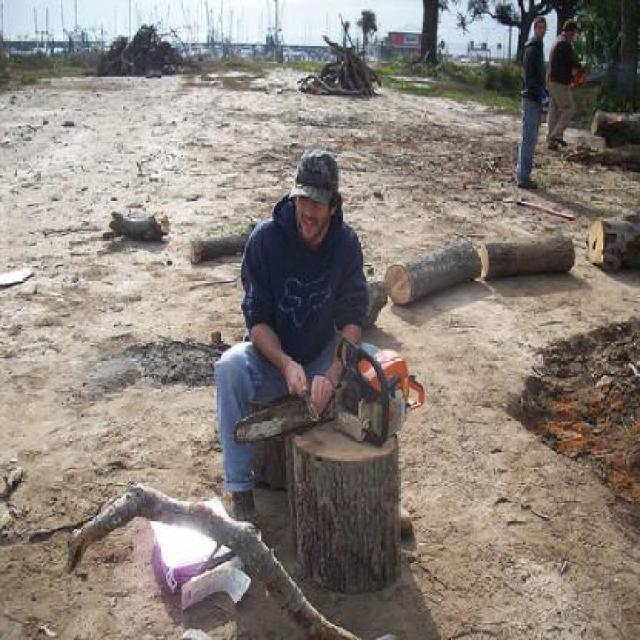Chainsaw: (230, 332, 428, 450)
